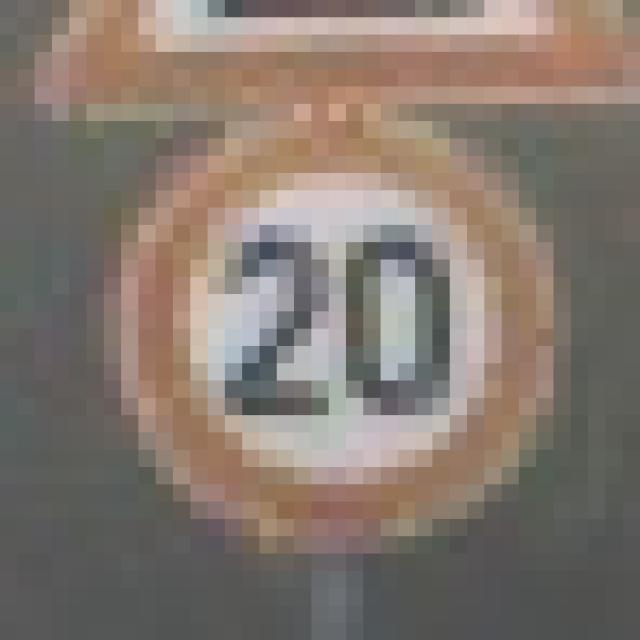Speed Limit -20-: (86, 104, 554, 536)
